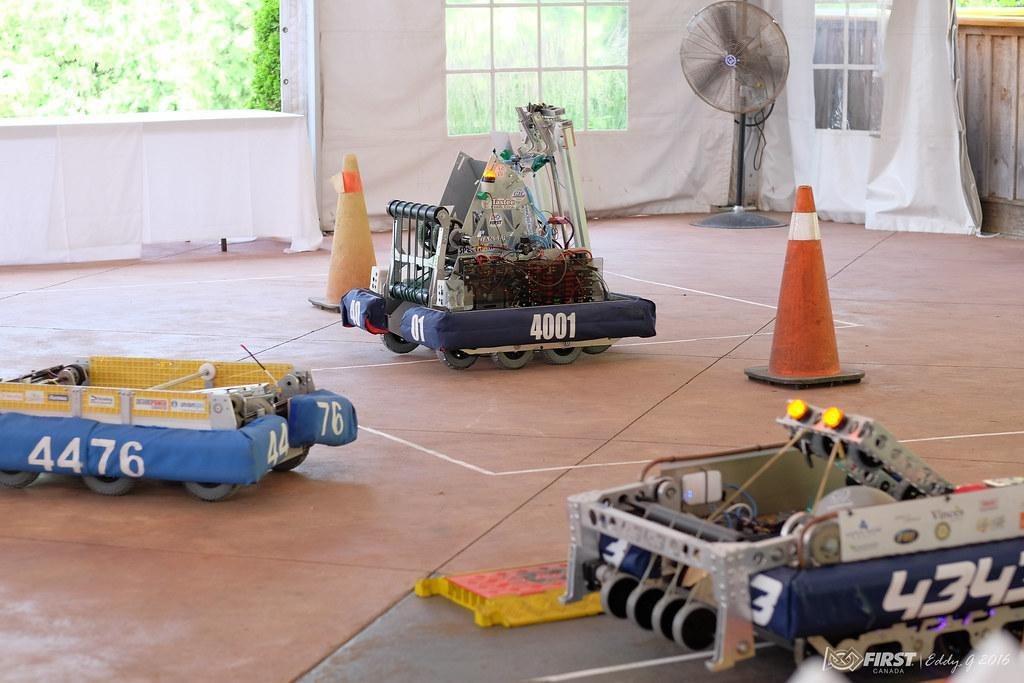robot: (555, 389, 1024, 681), (337, 90, 665, 363), (0, 333, 366, 509)
